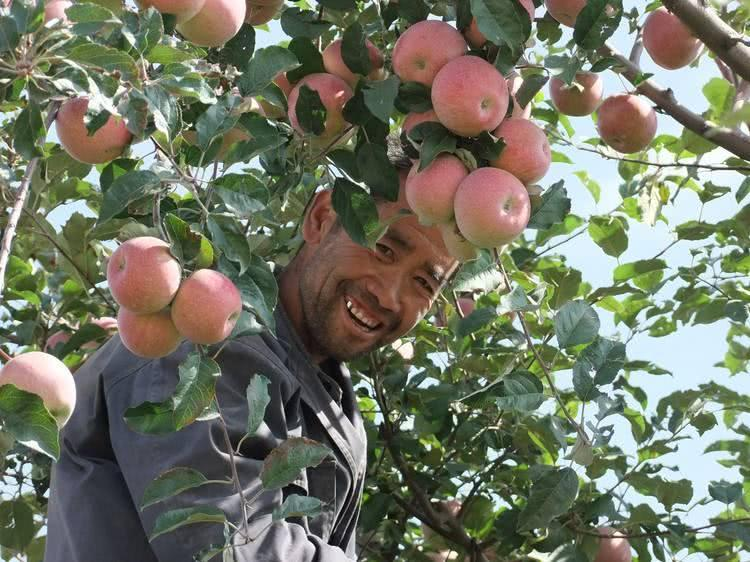apple: (429, 54, 510, 135), (1, 349, 77, 430), (453, 165, 529, 244), (51, 93, 132, 164), (107, 236, 180, 311), (169, 268, 240, 343), (395, 20, 467, 83), (488, 116, 551, 185), (592, 92, 657, 154), (639, 9, 702, 71), (119, 304, 183, 359), (549, 71, 603, 117)
